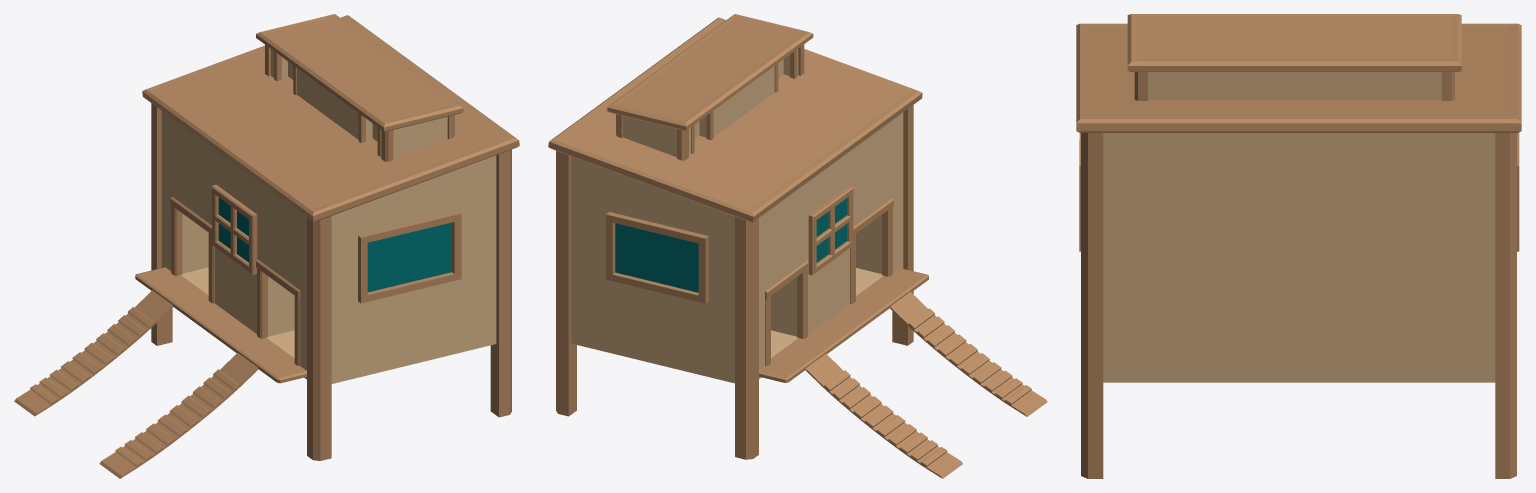
File: ChickenCoopHouseVariant.fbx
The picture shows the model from 3 angles, left to right: view 1: azimuth 30°, elevation 25°; view 2: azimuth 150°, elevation 25°; view 3: azimuth 270°, elevation 25°; orthographic projection. The views are drawn at different scales.
Visible parts, largest first — view 1: Cube.001; view 2: Cube.001; view 3: Cube.001.
Part boxes in pixels (x1,y1,x2,y2): Cube.001: (14, 14, 519, 478); Cube.001: (548, 14, 1047, 478); Cube.001: (1076, 14, 1521, 478).
Bounding box in the file's own units: 787 × 621 × 635.
